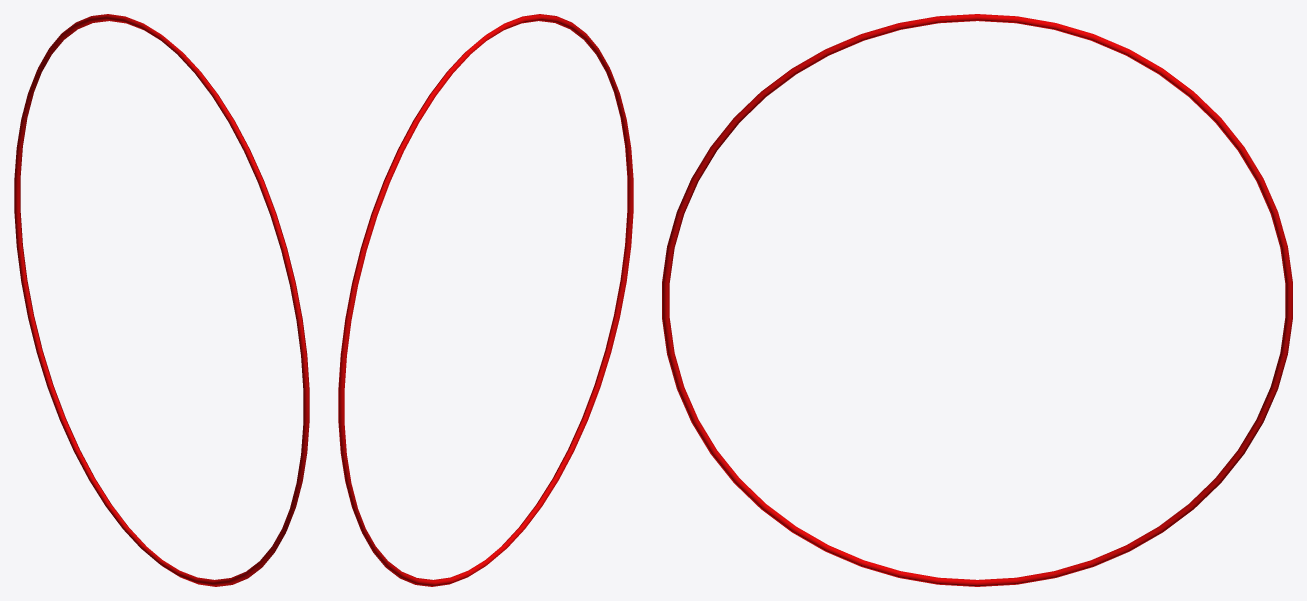
Rendered from Gizmo_ring_X.fbx.
3 views of the same model, side by side, from view 1: azimuth 30°, elevation 25°; view 2: azimuth 150°, elevation 25°; view 3: azimuth 270°, elevation 25° (orthographic). The views are drawn at different scales.
Visible parts, largest first — view 1: Gizmo_ring_X; view 2: Gizmo_ring_X; view 3: Gizmo_ring_X.
Part boxes in pixels (<box>): Gizmo_ring_X: <box>14,14,309,586</box>; Gizmo_ring_X: <box>338,14,633,586</box>; Gizmo_ring_X: <box>662,14,1292,586</box>.
Size of the model in its own units: 0.5 by 40.5 by 40.42.
